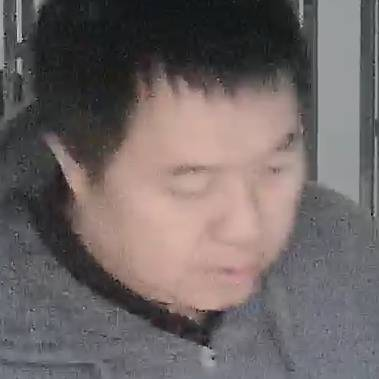caibo: (68, 47, 320, 319)
